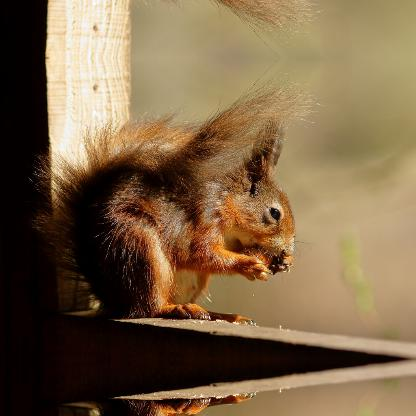Squirrel: (27, 73, 320, 319)
